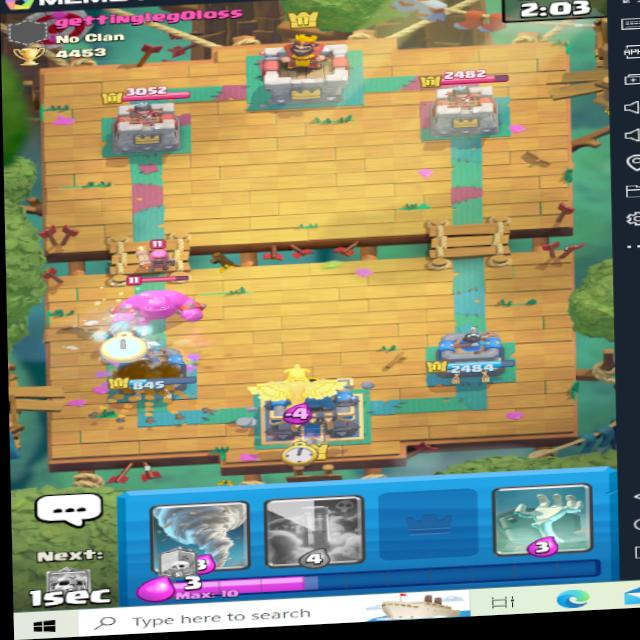electro-golem: (112, 272, 211, 324)
firecracker: (133, 232, 183, 271)
